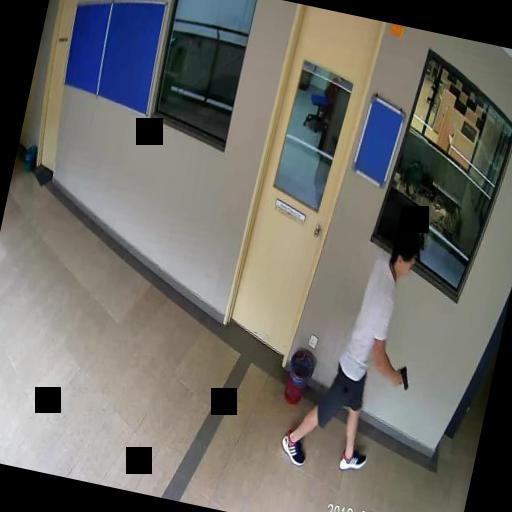Handgun: (391, 360, 412, 390)
